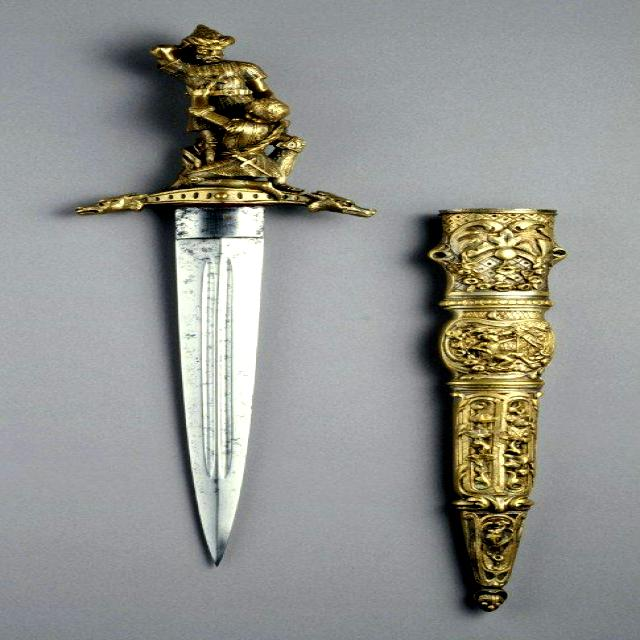short sword: (90, 8, 364, 578), (409, 197, 573, 628)
